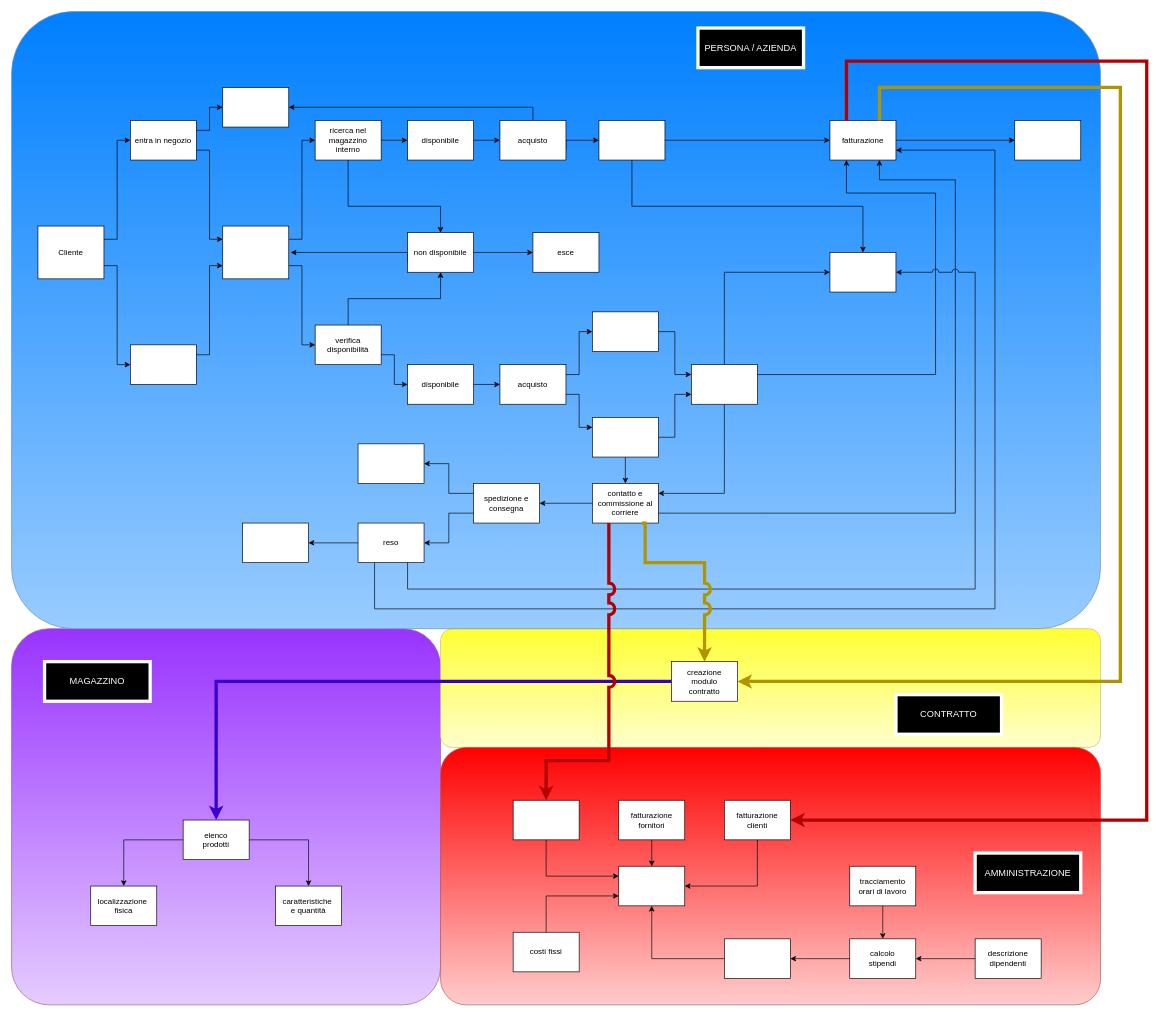
Image size: 1165x1016. Some labels were removed from this diagram. The shapes that lost their labels are listed below. From the top down, each one's centre as x and y in pixels, then its label:
[255,107]: richiesta riparazione
[631,140]: scontrino
[1047,140]: registrazione cliente (se non ancora registrato)
[255,252]: acquisto prodotto
[862,272]: aggiornamento disponibilità
[625,331]: sito web
[163,364]: visita le piattaforme online
[724,384]: ricevuta elettronica
[625,437]: piattaforma esterna
[390,463]: cliente soddisfatto
[275,542]: rimborso importo
[545,820]: fatturazione corrieri
[651,886]: contabilità
[757,958]: spese dipendenti
